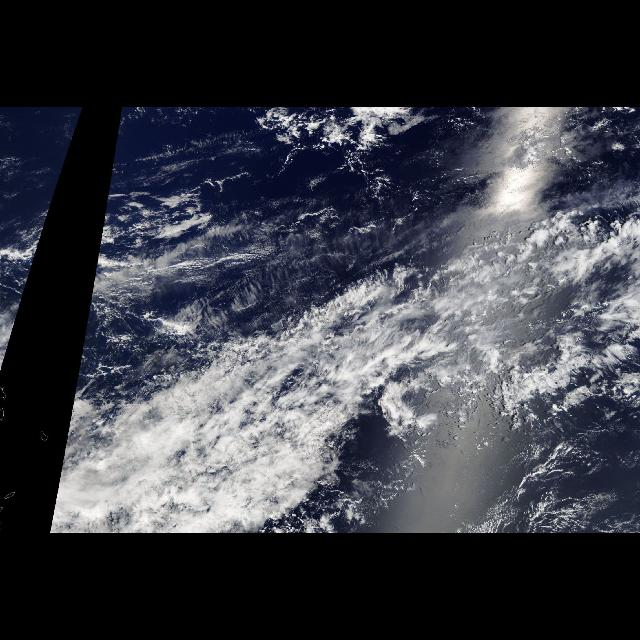Fish: (48, 249, 512, 533)
